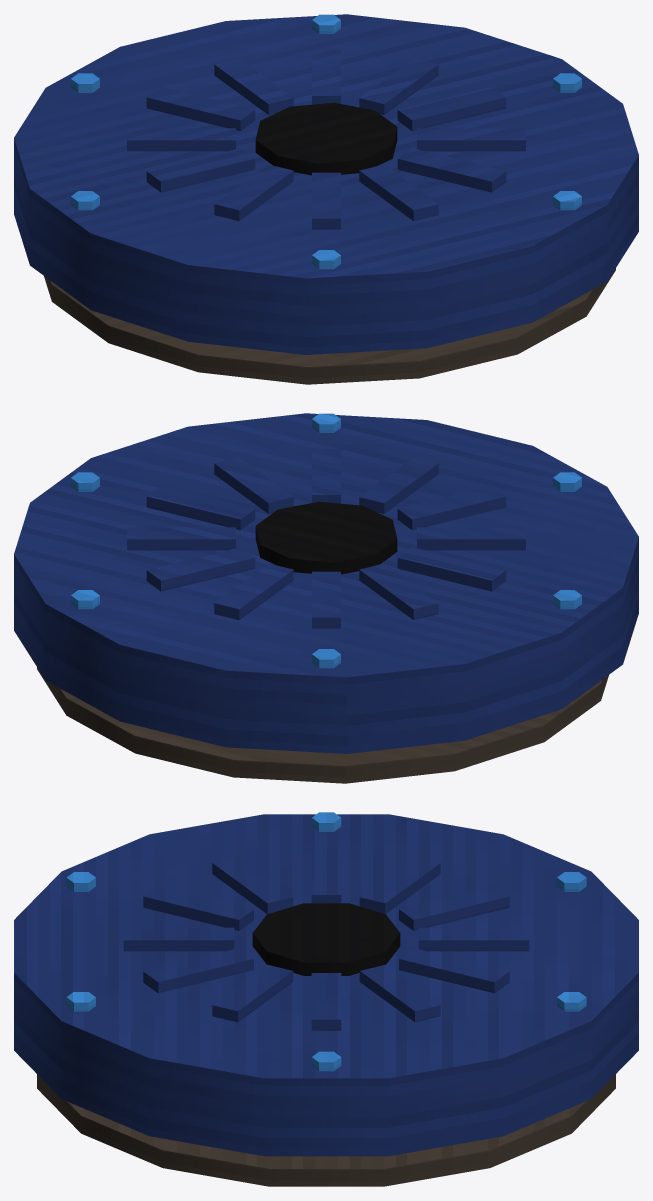
The model's file is embreagem_n2.glb.
The picture shows the model from 3 angles, top to bottom: view 1: azimuth 30°, elevation 25°; view 2: azimuth 150°, elevation 25°; view 3: azimuth 270°, elevation 25°; orthographic projection.
Parts seen in each view (by area): view 1: embreagem_n2; view 2: embreagem_n2; view 3: embreagem_n2.
Boxes of the visible parts, x1,y1,x2,y2 form: embreagem_n2: [14, 14, 638, 384]; embreagem_n2: [14, 413, 638, 783]; embreagem_n2: [14, 812, 638, 1186].
Size of the model in its own units: 0.2542 by 0.075 by 0.2542.
1 material, 1 textured.
